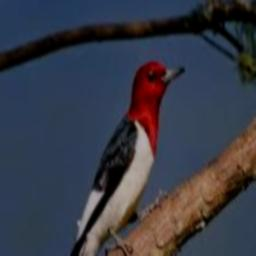Woodpecker: (60, 60, 185, 256)
